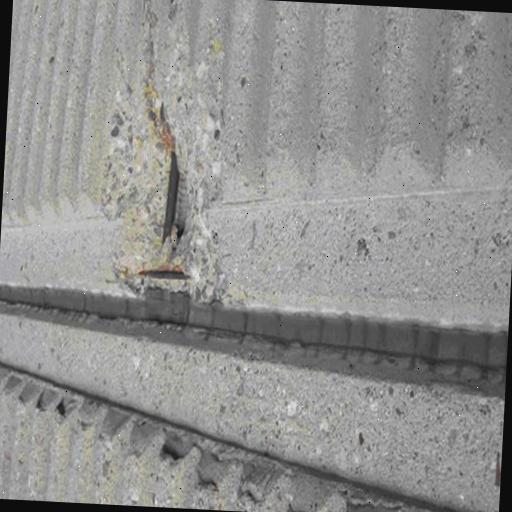spalling: (126, 106, 227, 294)
